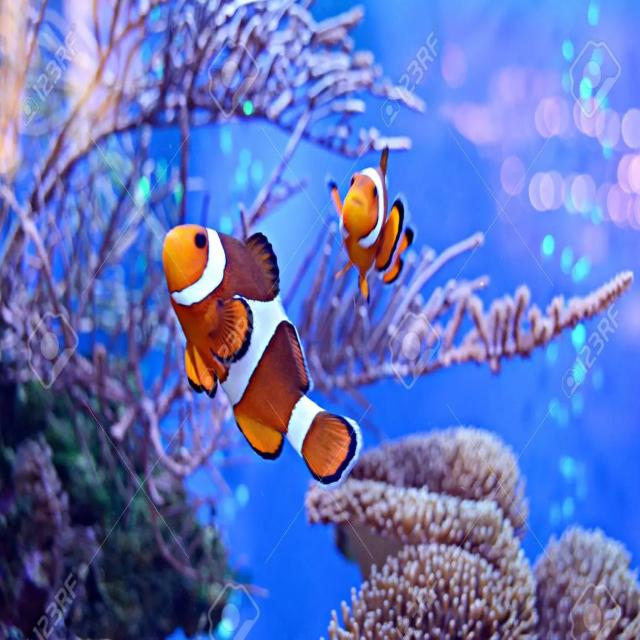ClownFish: (163, 222, 364, 490), (323, 146, 414, 298)
